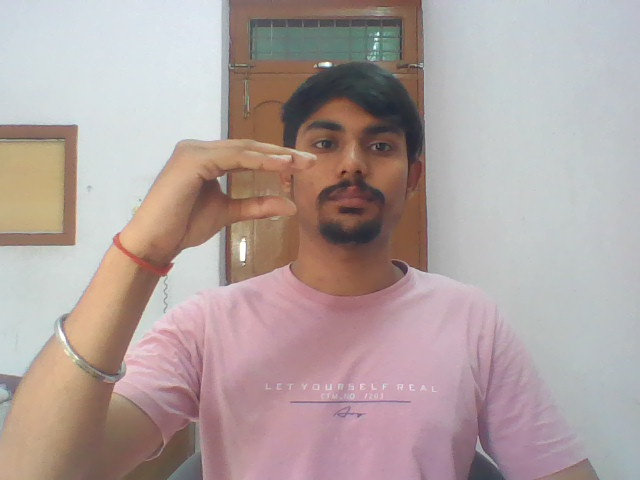No: (133, 121, 321, 249)
